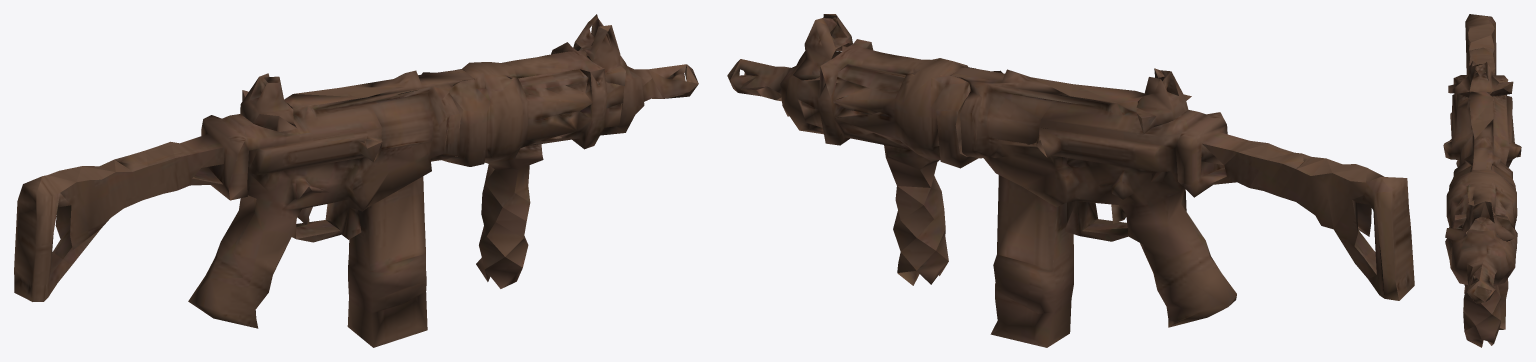
The model's file is bear-market-burner.glb.
3 views of the same model, side by side, from view 1: azimuth 30°, elevation 25°; view 2: azimuth 150°, elevation 25°; view 3: azimuth 270°, elevation 25° (orthographic). The views are drawn at different scales.
Visible parts, largest first — view 1: HMH Weapon | bear-market-burner; view 2: HMH Weapon | bear-market-burner; view 3: HMH Weapon | bear-market-burner.
Part boxes in pixels (box(x1,y1,x2,y2)): HMH Weapon | bear-market-burner: box(14, 14, 698, 347); HMH Weapon | bear-market-burner: box(727, 14, 1414, 347); HMH Weapon | bear-market-burner: box(1443, 14, 1521, 347).
Size of the model in its own units: 0.951 by 0.3931 by 0.1291.
Materials: 1 (1 with a texture image).
